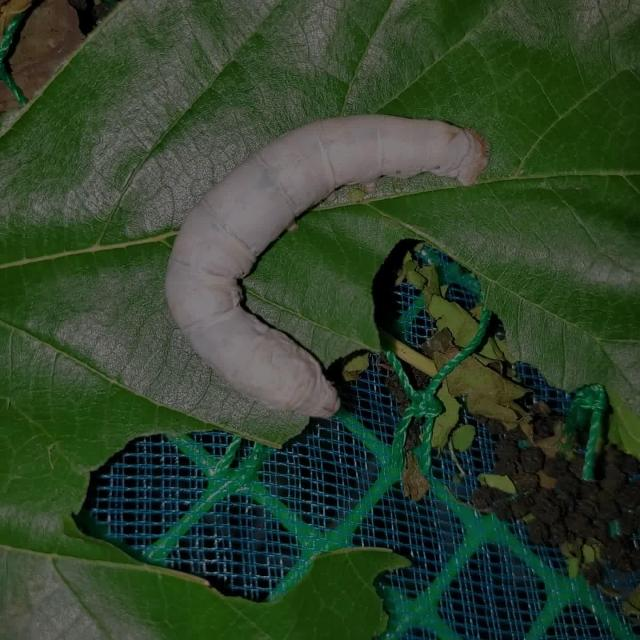Healthy: (156, 99, 494, 425)
